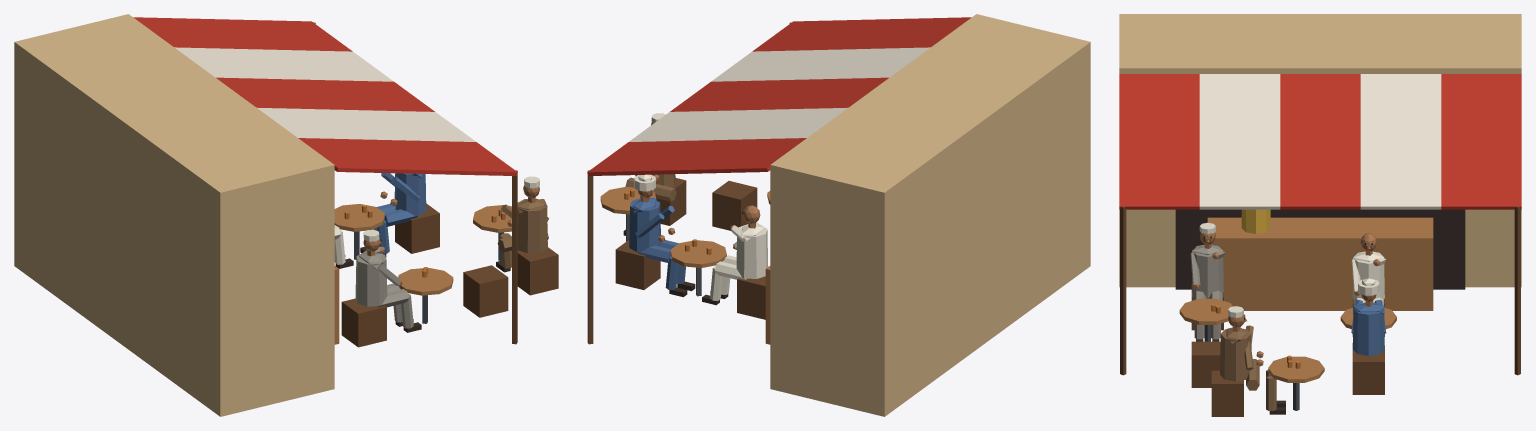
File: tehus.glb
The picture shows the model from 3 angles, left to right: view 1: azimuth 30°, elevation 25°; view 2: azimuth 150°, elevation 25°; view 3: azimuth 270°, elevation 25°; orthographic projection. The views are drawn at different scales.
Parts seen in each view (by area): view 1: tehus; view 2: tehus; view 3: tehus.
Part boxes in pixels (x1=…): tehus: x1=14, y1=14, x2=558, y2=416; tehus: x1=587, y1=14, x2=1090, y2=416; tehus: x1=1119, y1=14, x2=1521, y2=416.
Size of the model in its own units: 5.53 by 3 by 5.
